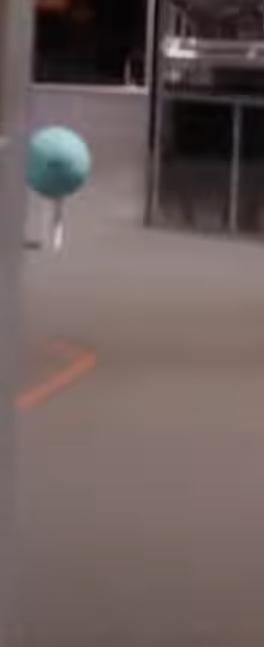algae: (28, 126, 90, 198)
coral: (45, 198, 67, 252)
